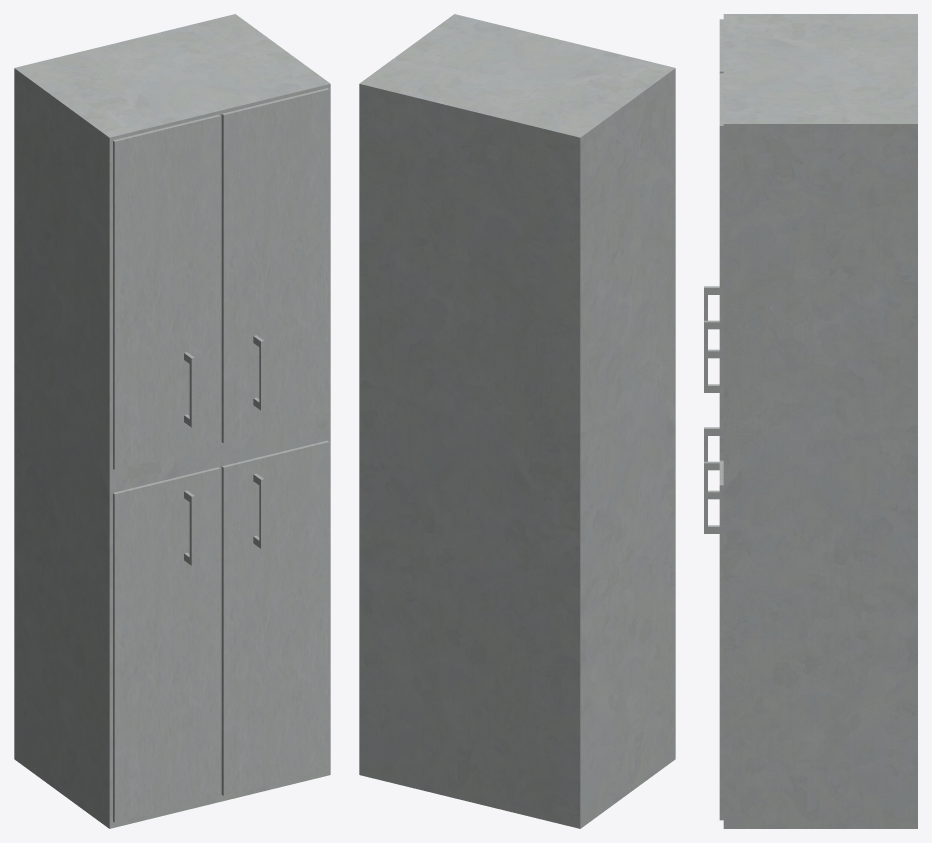
File: Alacena.glb
The picture shows the model from 3 angles, left to right: view 1: azimuth 30°, elevation 25°; view 2: azimuth 150°, elevation 25°; view 3: azimuth 270°, elevation 25°; orthographic projection.
Visible parts, largest first — view 1: Alacena, PuertaA_UR, PuertaA_BR, PuertaA_BL, PuertaA_UL; view 2: Alacena; view 3: Alacena, PuertaA_UR, PuertaA_BR, HandleA_BR, HandleA_UR.
Part boxes in pixels (x1,y1,x2,y2): Alacena: (14, 14, 330, 828); PuertaA_UR: (221, 88, 329, 443); PuertaA_BR: (221, 440, 329, 795); PuertaA_BL: (113, 467, 220, 822); PuertaA_UL: (113, 114, 220, 469); Alacena: (359, 14, 675, 828); Alacena: (723, 14, 917, 828); PuertaA_UR: (719, 73, 723, 460); PuertaA_BR: (719, 460, 723, 820); HandleA_BR: (704, 461, 719, 533); HandleA_UR: (704, 320, 719, 392).
Bounding box in the file's own units: 0.67 × 2 × 0.55.
1 material, 1 textured.
